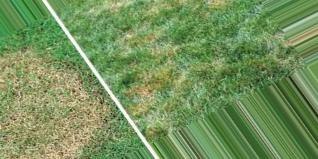patch: (27, 110, 88, 149), (11, 63, 69, 103), (75, 84, 91, 109)
